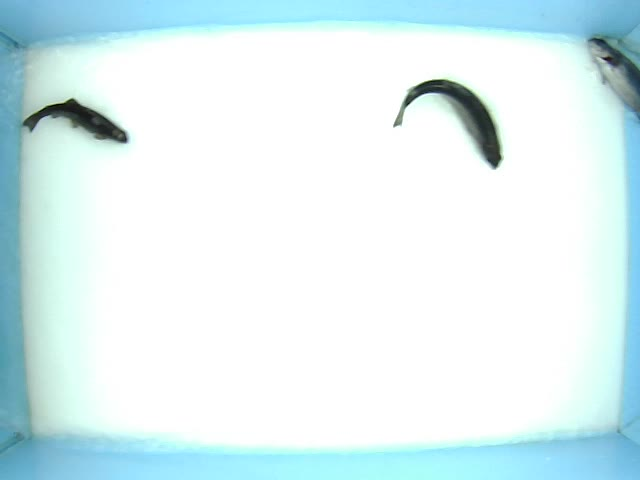fish: (391, 77, 503, 173), (21, 95, 131, 145)
